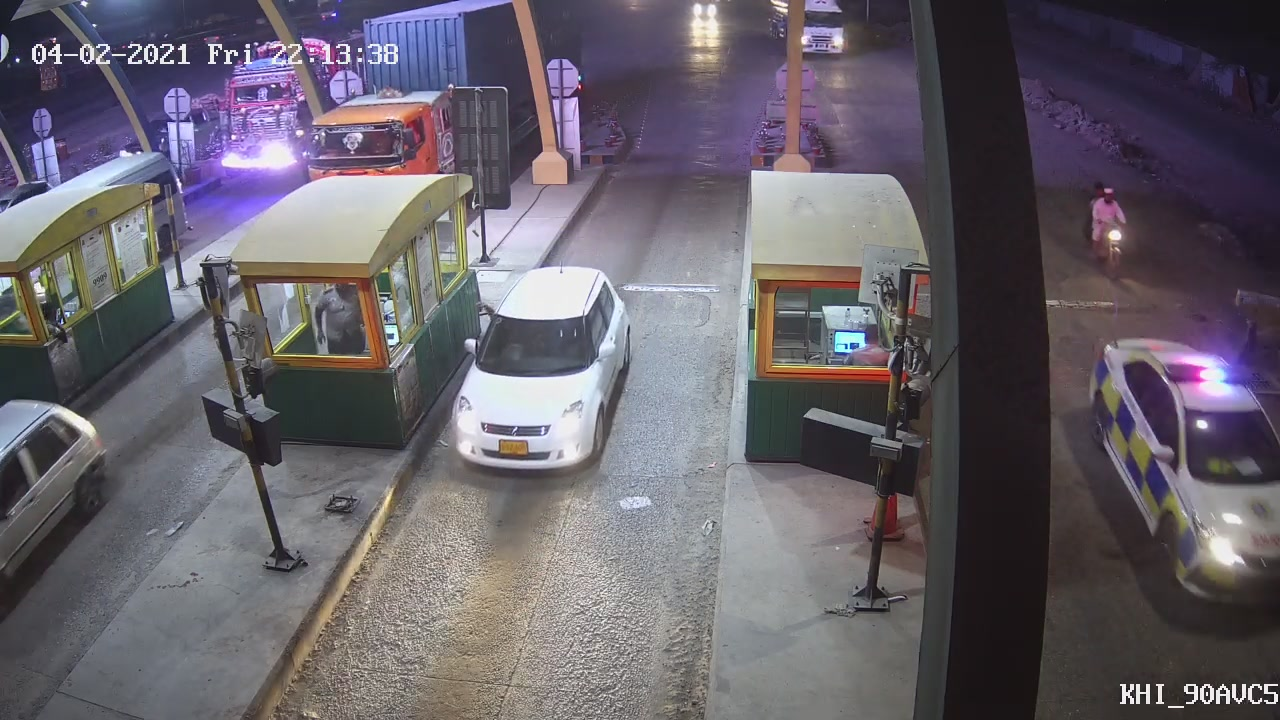F1: (445, 259, 640, 476)
